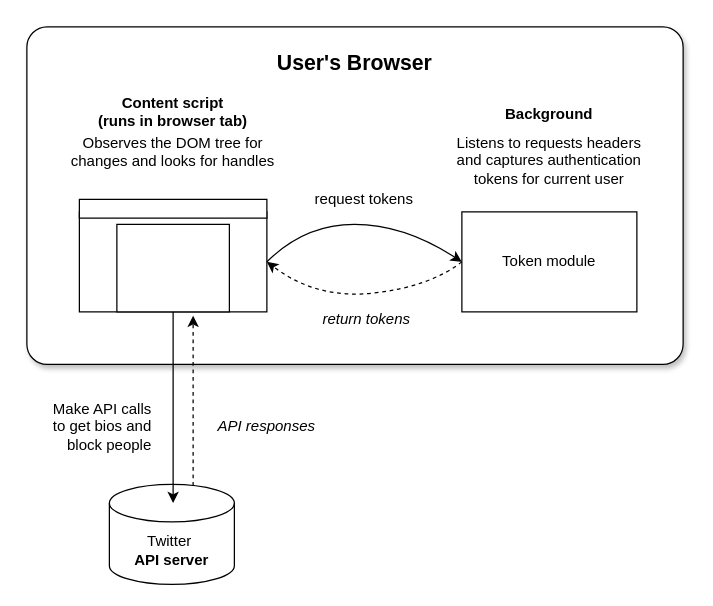
Image size: 713x606. Some labels were removed from this diagram. The shapes that lost their labels are listed below. From the top down, each one's centre as x and y in pixels, then its label:
pixel 172 208: twitter.com
pixel 172 267: timeline
